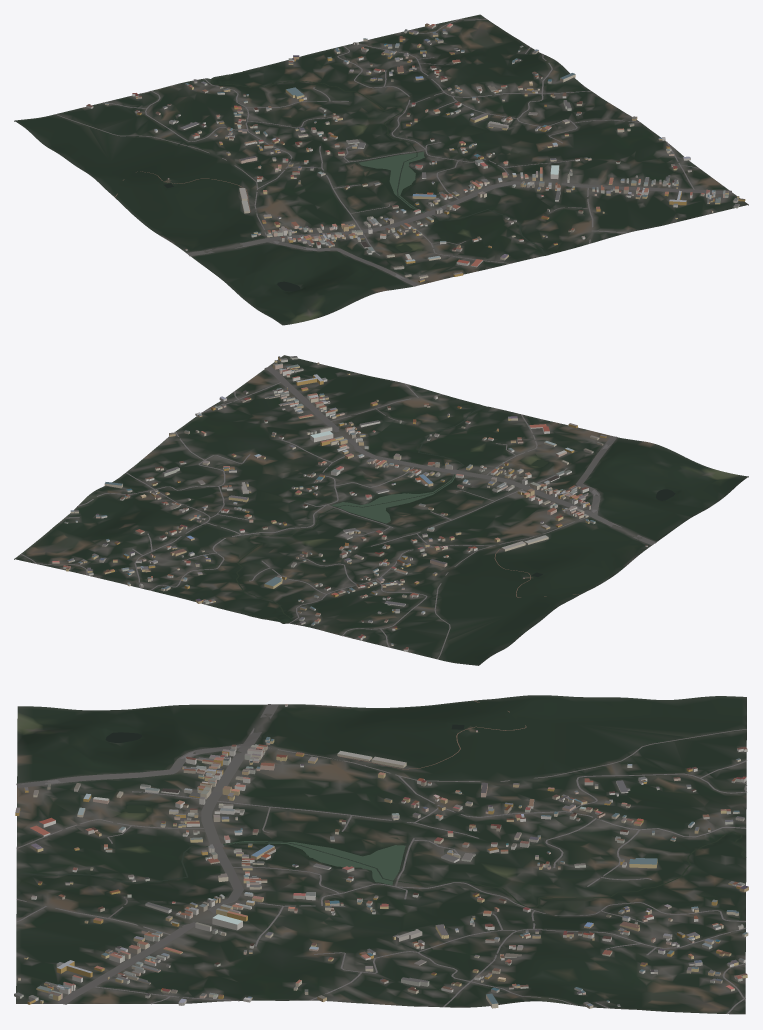
3 views of the same model, one above another, from view 1: azimuth 30°, elevation 25°; view 2: azimuth 150°, elevation 25°; view 3: azimuth 270°, elevation 25° (orthographic). The views are drawn at different scales.
Parts seen in each view (by area): view 1: ground, buildings, roads, water; view 2: ground, buildings, roads, water; view 3: ground, buildings, roads, water.
Part boxes in pixels (x1,y1,x2,y2): ground: (14,14,748,325); buildings: (86,23,745,282); roads: (55,19,732,286); water: (163,71,547,291); ground: (14,355,748,665); buildings: (52,356,647,651); roads: (20,366,656,659); water: (236,406,675,622); ground: (16,695,746,1014); buildings: (14,704,748,1008); roads: (16,700,746,1013); water: (17,724,746,907).
Size of the model in its own units: 1409 by 49.95 by 1412.
